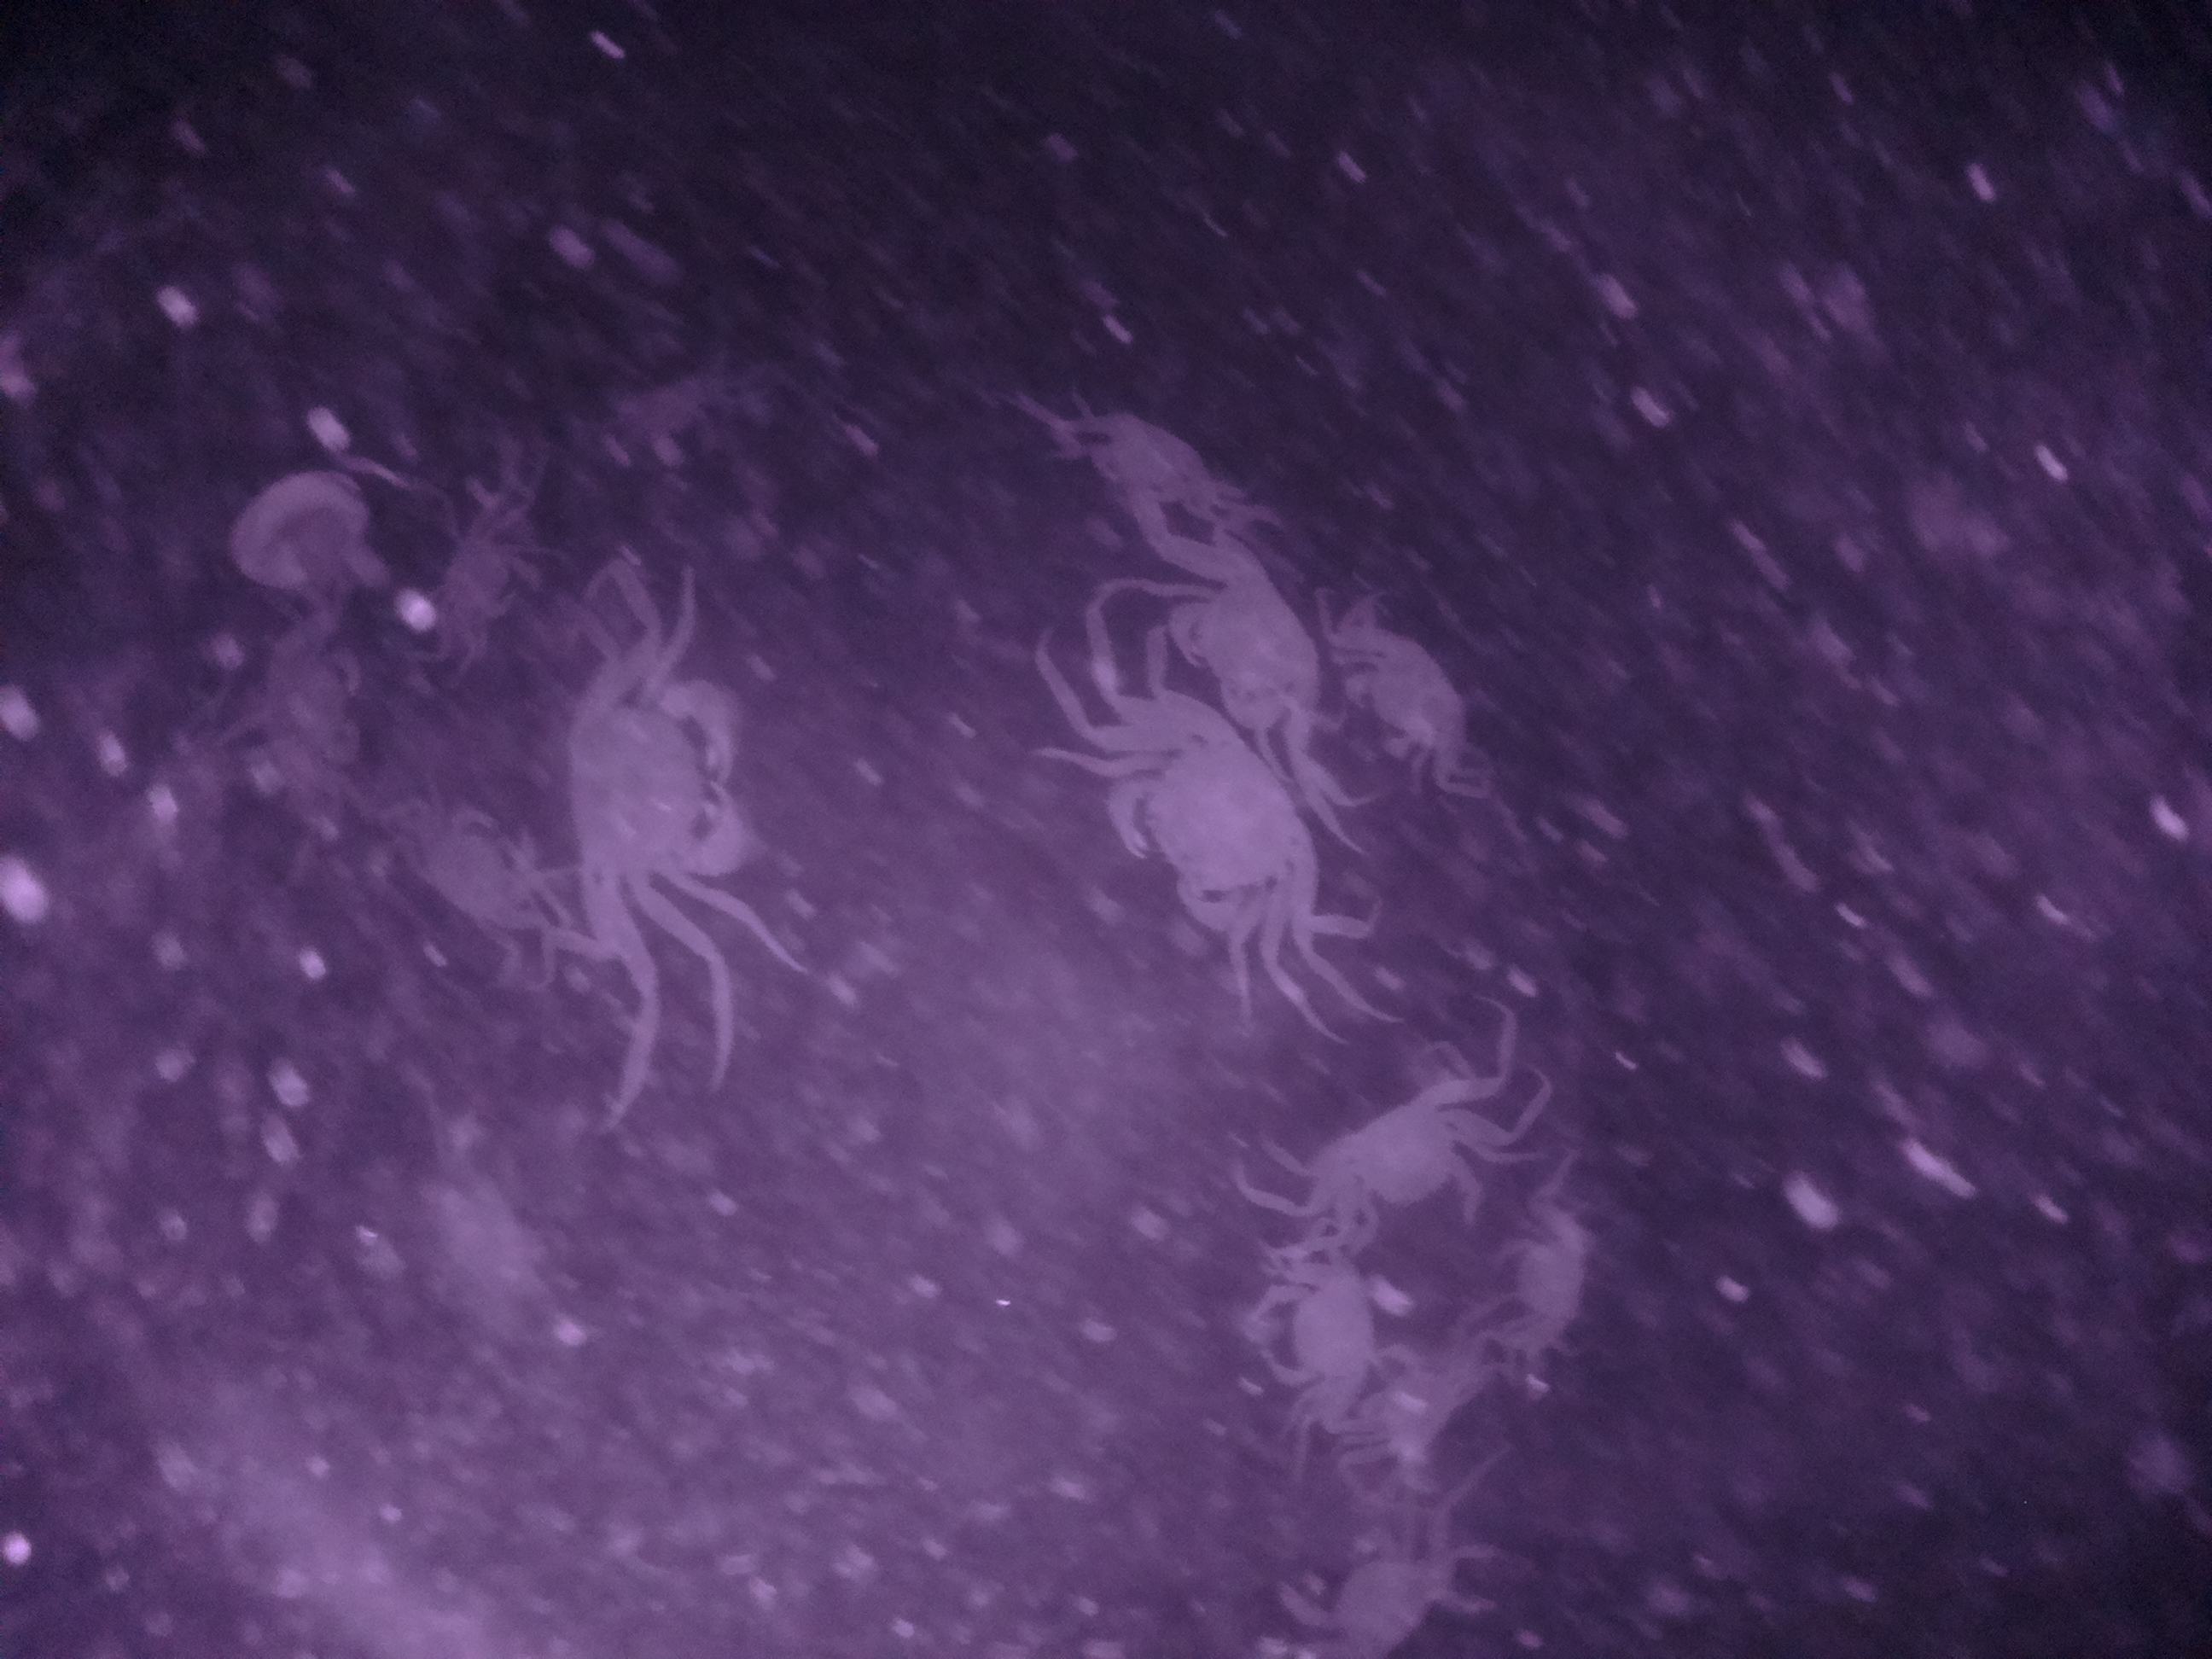Crab: (554, 633, 763, 925), (1096, 695, 1320, 960), (1148, 526, 1327, 751), (1277, 1066, 1503, 1237), (1237, 1234, 1406, 1434), (1273, 1511, 1480, 1659), (401, 784, 575, 955), (1339, 605, 1482, 788)
